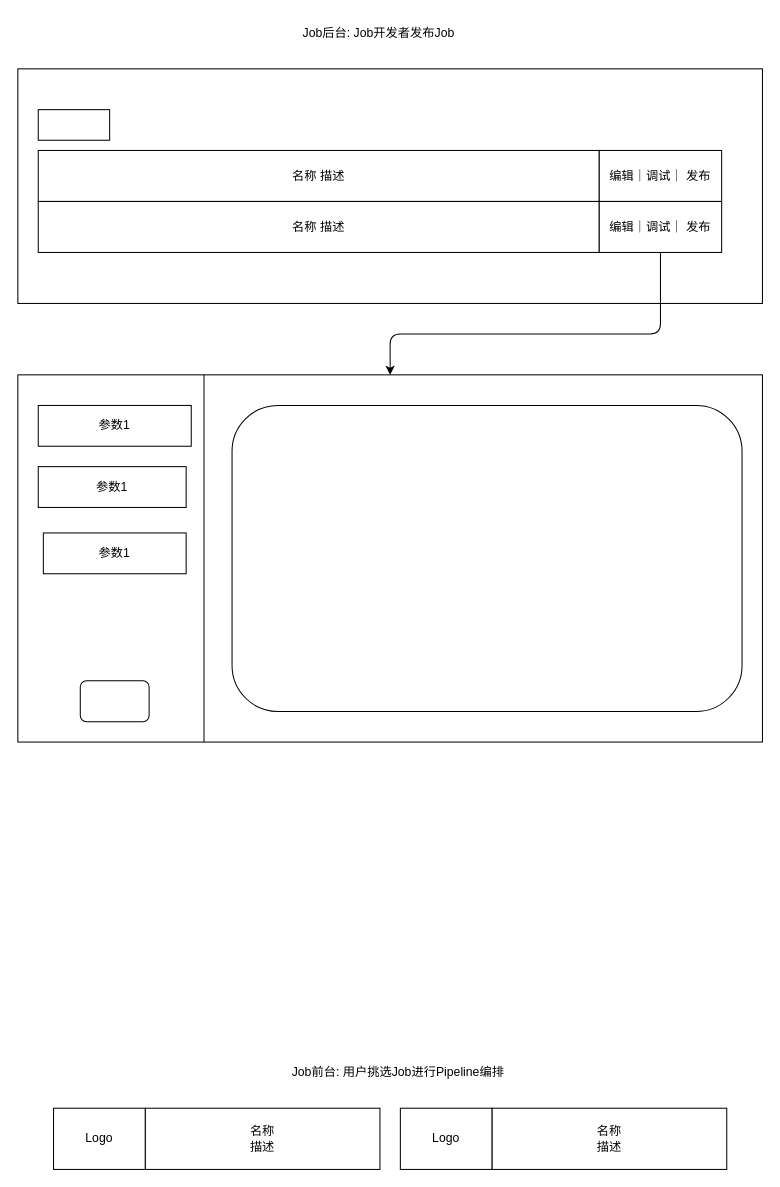
Some shapes in this 780 by 1187 pixel diagram are drawn without their labels. Here are the shapes that lost their labels. From the top down, the box of each, then its label:
(37, 109, 110, 140): 创建
(231, 404, 742, 711): 调试终端
(79, 680, 149, 722): 运行
